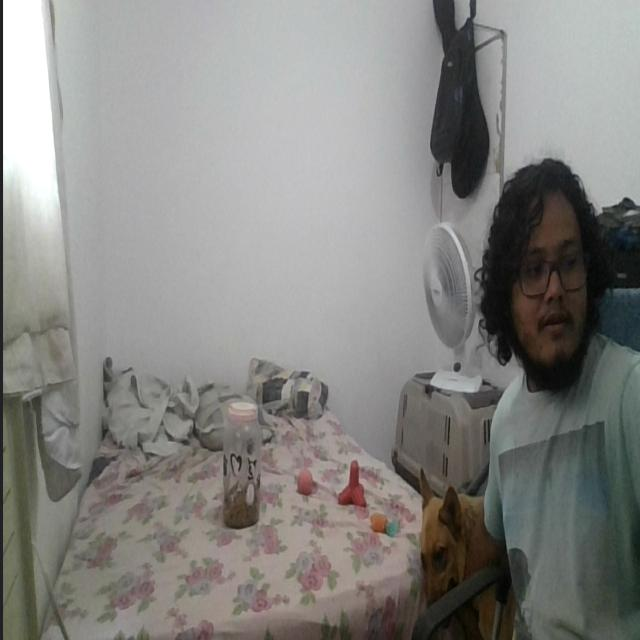bolinha: (293, 468, 317, 500)
brinquedo caro: (334, 458, 368, 511)
cachorro: (419, 466, 491, 604)
cenora de brinquedo: (364, 506, 393, 541)
humano: (463, 112, 640, 640)
racao: (226, 399, 258, 529)
